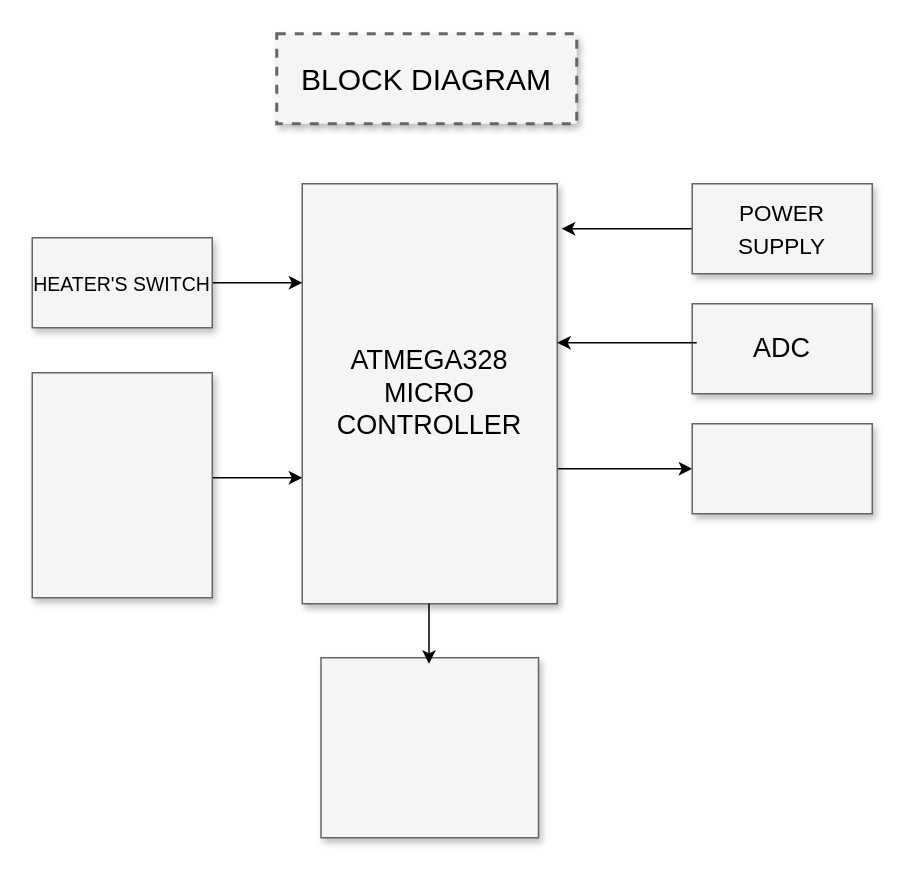
Some shapes in this 908 by 875 pixel diagram are drawn without their labels. The shapes that lost their labels are listed below. From the top down, each one's centre as x and y in pixels, then its label:
At point (123, 486): "BUTTON TO CHECK IF PERSON IS SEATED OR NOT".
At point (783, 470): "LED".
At point (431, 749): "DISPLAY TEMPERATURE IN CRO".
